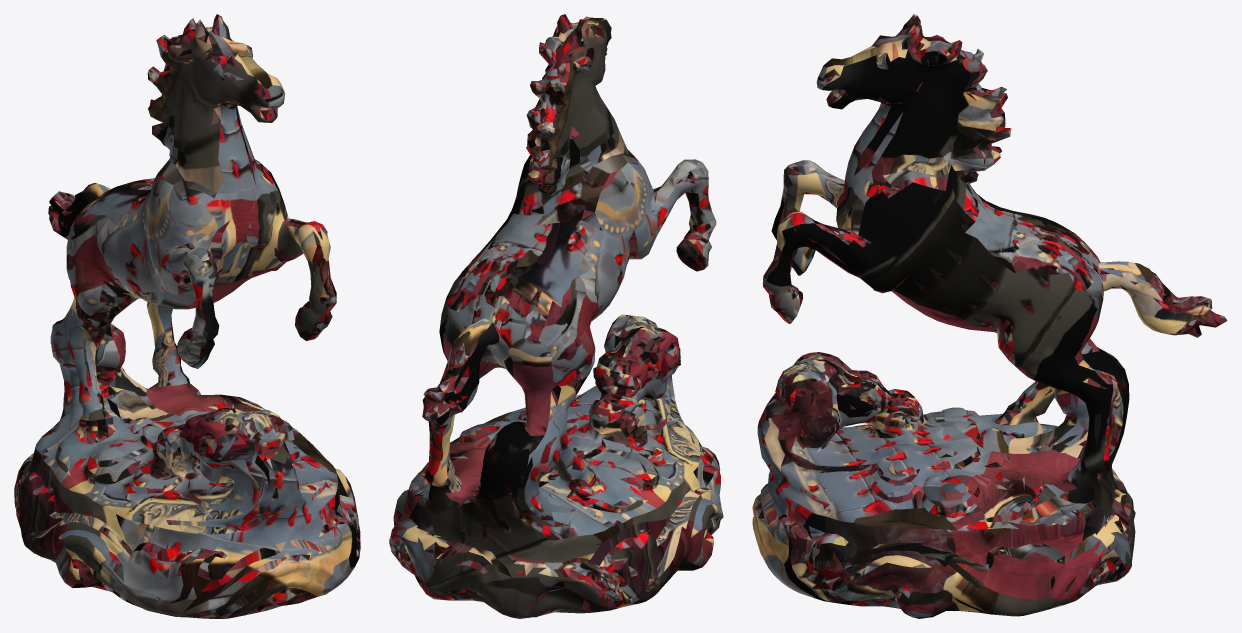
Rendered from guofengscp2.fbx.
3 views of the same model, side by side, from view 1: azimuth 30°, elevation 25°; view 2: azimuth 150°, elevation 25°; view 3: azimuth 270°, elevation 25° (orthographic). The views are drawn at different scales.
Visible parts, largest first — view 1: Mesh_0; view 2: Mesh_0; view 3: Mesh_0.
Boxes of the visible parts, x1,y1,x2,y2 form: Mesh_0: (14,14,360,618); Mesh_0: (389,14,723,618); Mesh_0: (752,14,1227,618).
Bounding box in the file's own units: 0.5476 × 1 × 0.8003.
